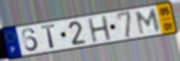2: (67, 20, 88, 47)
6: (21, 28, 40, 53)
7: (115, 10, 133, 40)
H: (87, 14, 113, 44)
M: (135, 8, 162, 36)
T: (40, 23, 58, 50)
